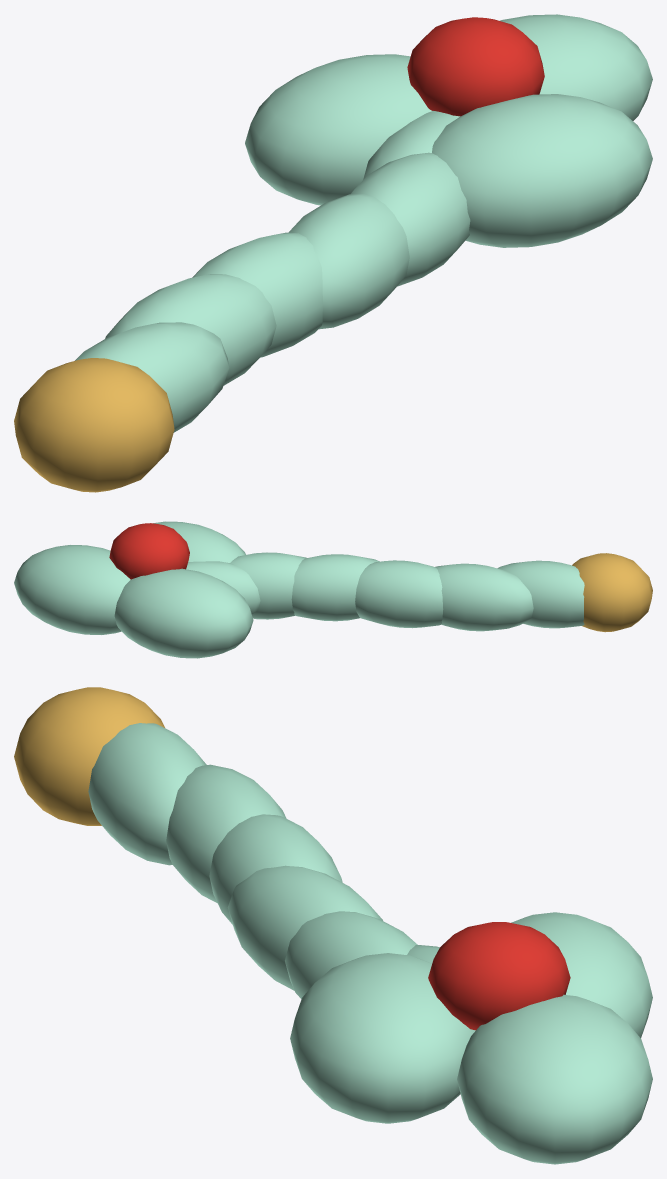
The model's file is ruyi.glb.
3 renders of one model, top to bottom at view 1: azimuth 30°, elevation 25°; view 2: azimuth 150°, elevation 25°; view 3: azimuth 270°, elevation 25°, orthographic. The views are drawn at different scales.
Parts seen in each view (by area): view 1: ruyi; view 2: ruyi; view 3: ruyi.
Part boxes in pixels (x1=…): ruyi: x1=14, y1=14, x2=652, y2=492; ruyi: x1=14, y1=521, x2=652, y2=658; ruyi: x1=14, y1=687, x2=652, y2=1164.
Bounding box in the file's own units: 1 × 0.1963 × 0.6401.
